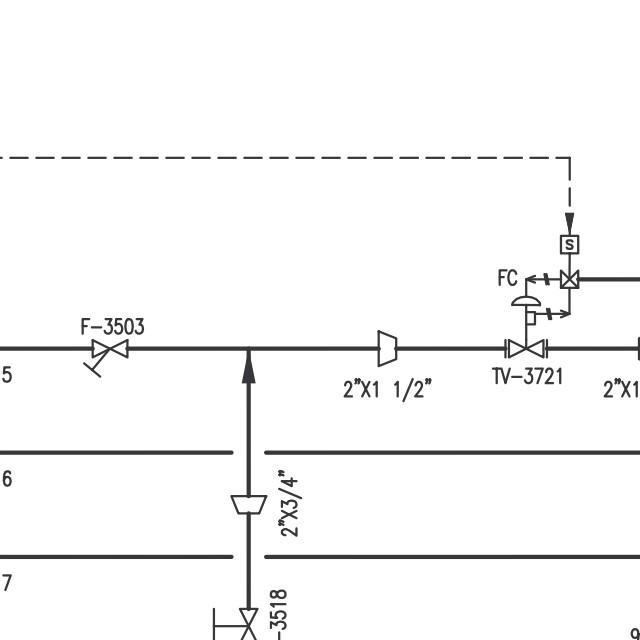CBV: (497, 228, 584, 365)
HVWT: (209, 598, 261, 640)
S: (80, 333, 135, 379)
SP: (371, 323, 402, 372), (226, 489, 270, 519)
